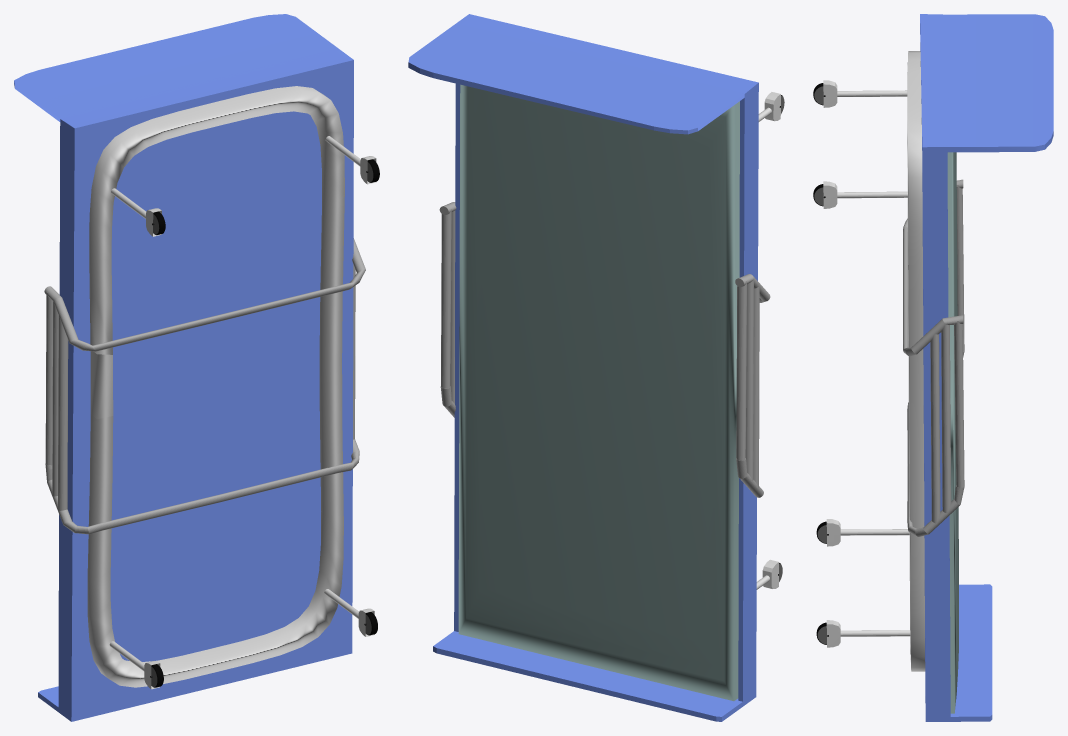
File: Bed2.fbx
The picture shows the model from 3 angles, left to right: view 1: azimuth 30°, elevation 25°; view 2: azimuth 150°, elevation 25°; view 3: azimuth 270°, elevation 25°; orthographic projection. The views are drawn at different scales.
Parts seen in each view (by area): view 1: Cube.001; view 2: Cube.001; view 3: Cube.001.
Boxes of the visible parts, left/top/right/bottom form: Cube.001: left=14, top=14, right=379, bottom=721; Cube.001: left=408, top=14, right=784, bottom=721; Cube.001: left=813, top=14, right=1053, bottom=721.
Size of the model in its own units: 497 by 956 by 361.
